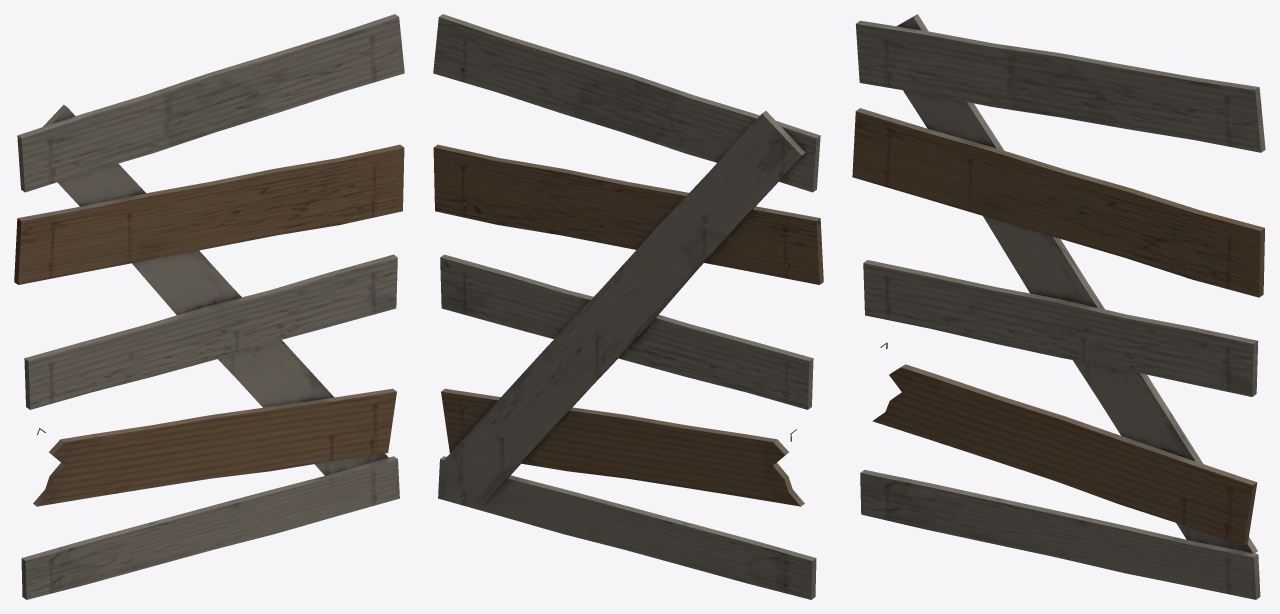
Rendered from dressing_boards.glb.
3 renders of one model, left to right at view 1: azimuth 30°, elevation 25°; view 2: azimuth 150°, elevation 25°; view 3: azimuth 330°, elevation 25°, orthographic. The views are drawn at different scales.
Parts seen in each view (by area): view 1: dressing_boards; view 2: dressing_boards; view 3: dressing_boards.
Part boxes in pixels (bbox=[...]): dressing_boards: bbox=[14, 14, 404, 599]; dressing_boards: bbox=[433, 14, 823, 599]; dressing_boards: bbox=[852, 14, 1265, 599].
Bounding box in the file's own units: 1.2 × 1.46 × 0.0455.
Materials: 1 (1 with a texture image).
